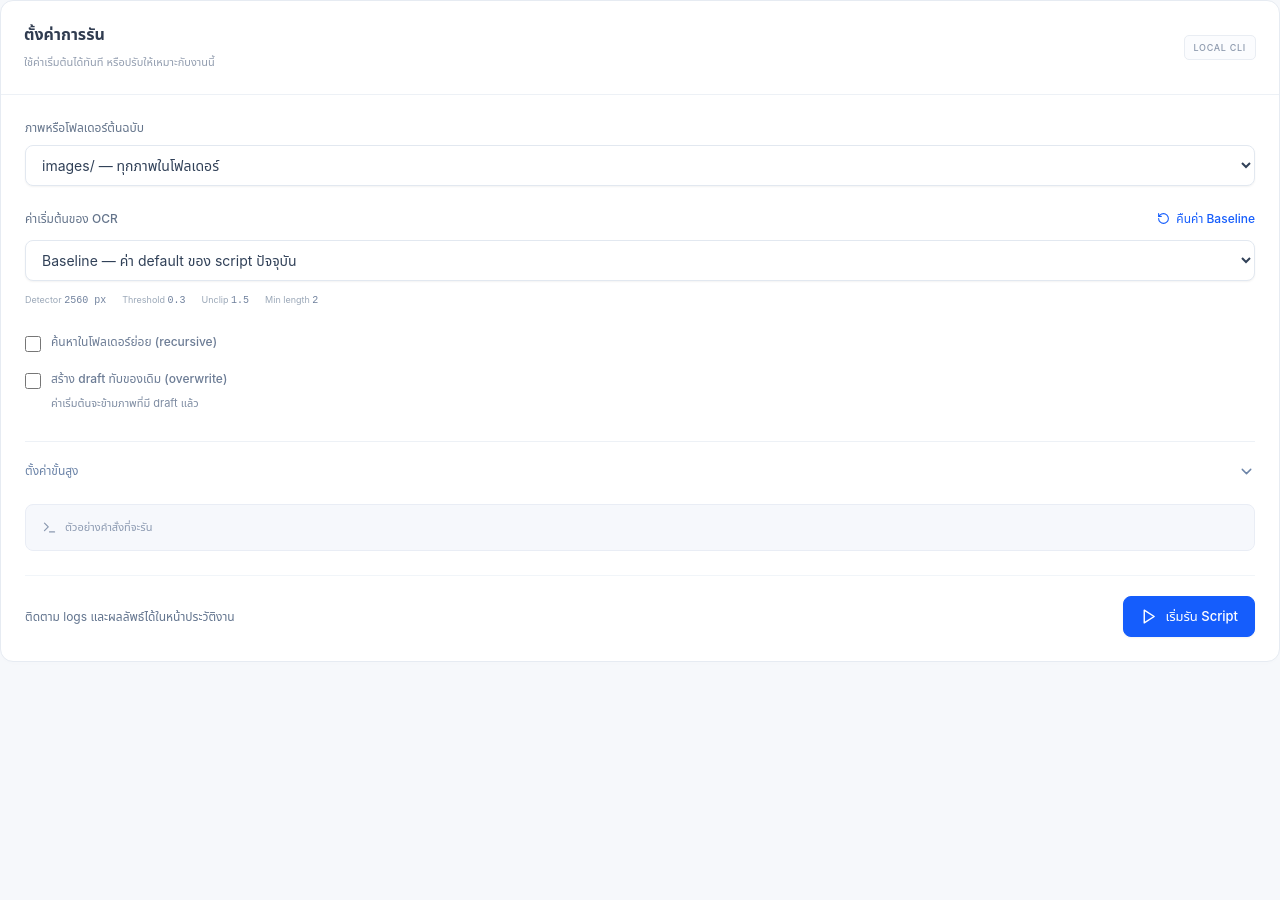
Test case: run configuration › shows a rejected concurrent run without losing selected parameters
Step 1. Click the button "เริ่มรัน Script" → (1189, 617), box [1123,596,1255,637]
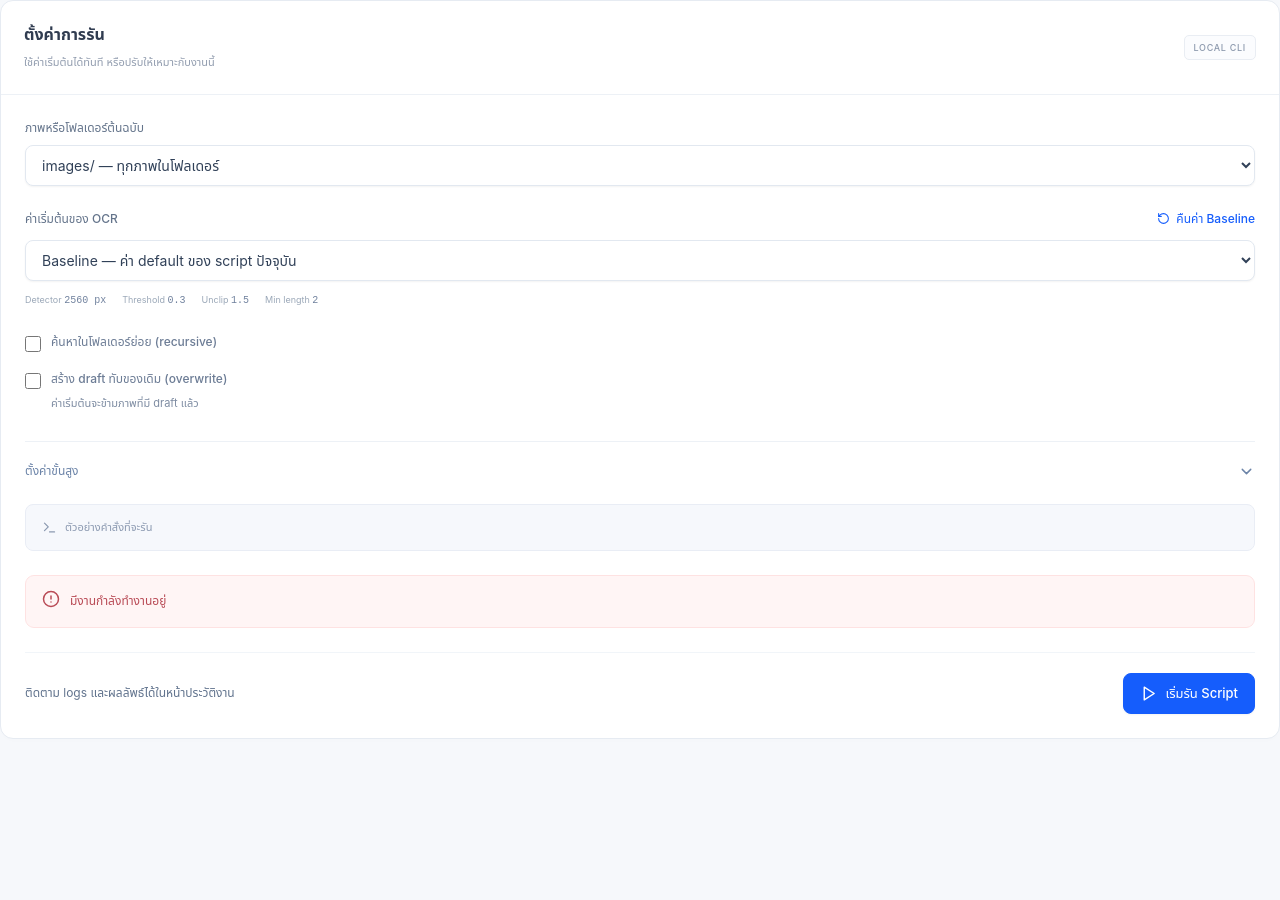
Expected: the message reads "มีงานกำลังทำงานอยู่", [70,593,166,608]
